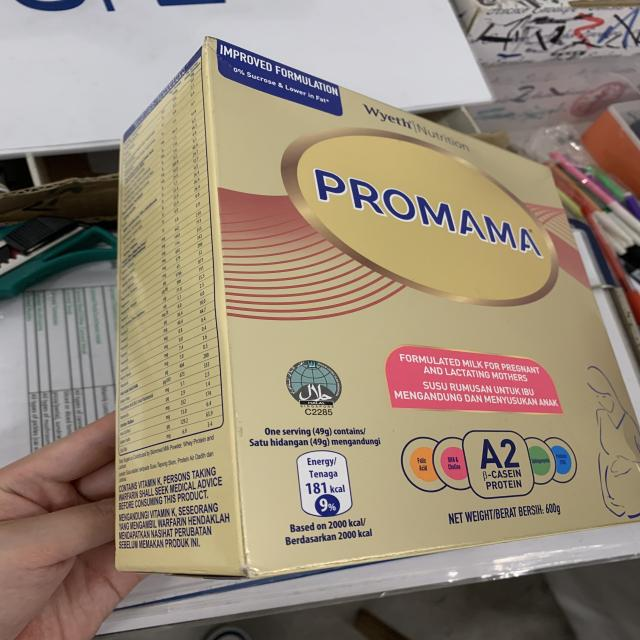object_name: (119, 59, 640, 553)
